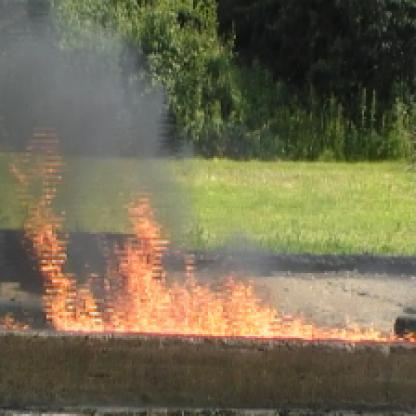Fire: (13, 147, 414, 347)
Smoke: (2, 2, 128, 156)
